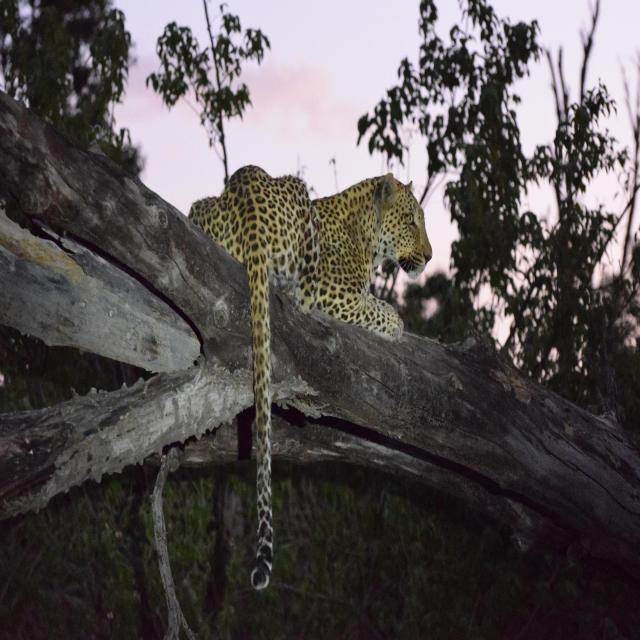Leopard: (187, 154, 442, 629)
